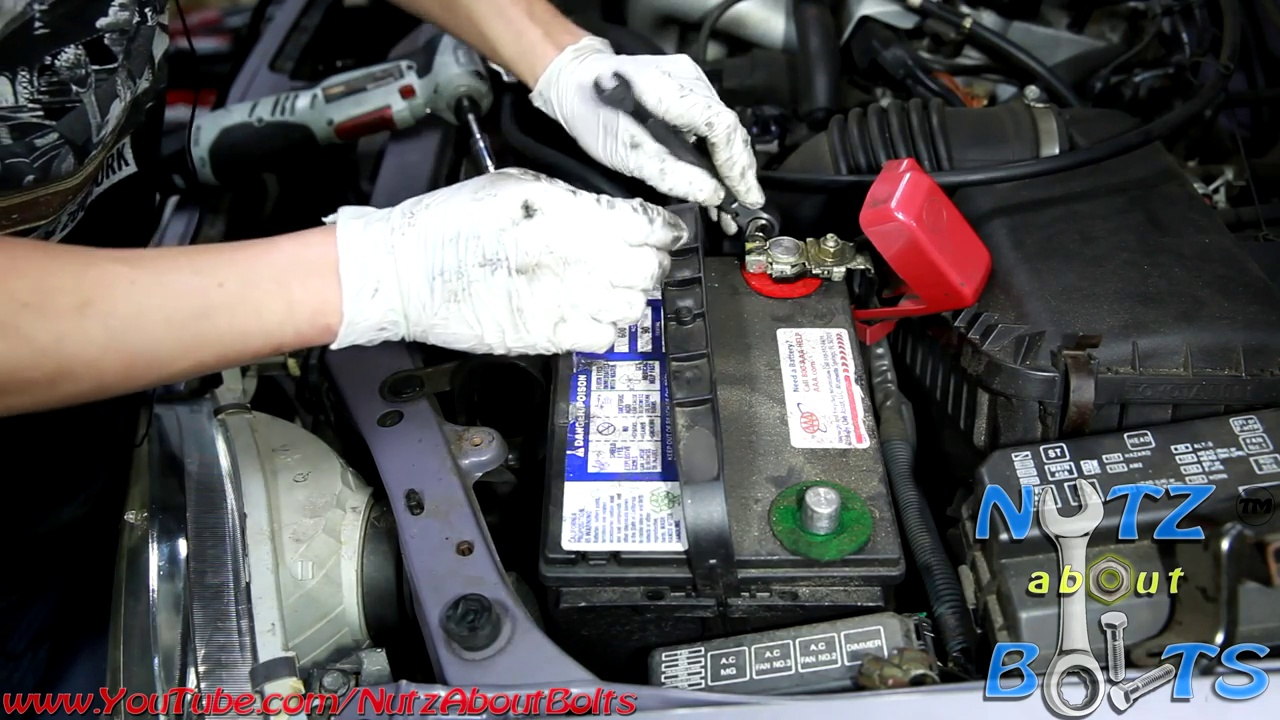battery: (551, 183, 917, 593)
neg_disconnected: (759, 468, 880, 555)
pos_connected: (737, 209, 926, 333)
pos_touched: (673, 136, 928, 316)
